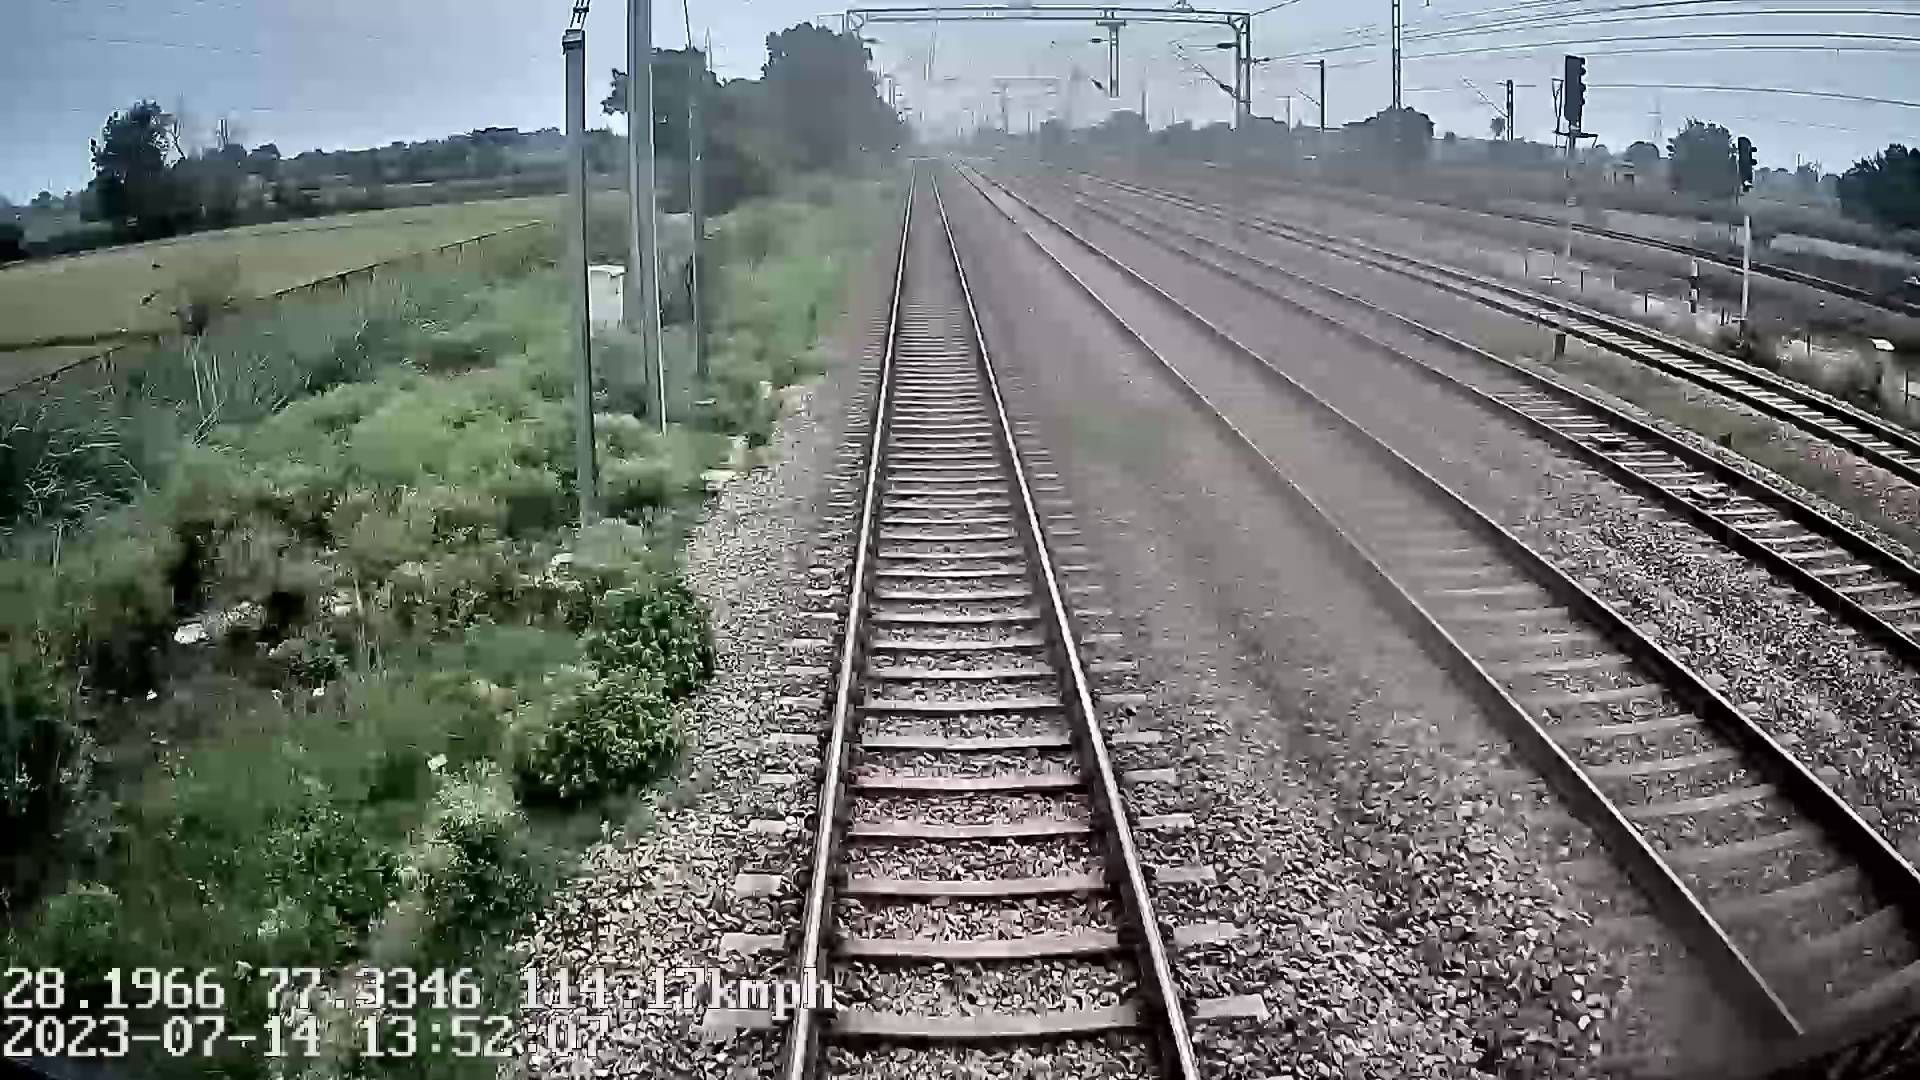track1: (798, 178, 1191, 1068)
track2: (956, 162, 1917, 992)
track3: (1234, 265, 1916, 625)
track4: (1282, 228, 1915, 467)
